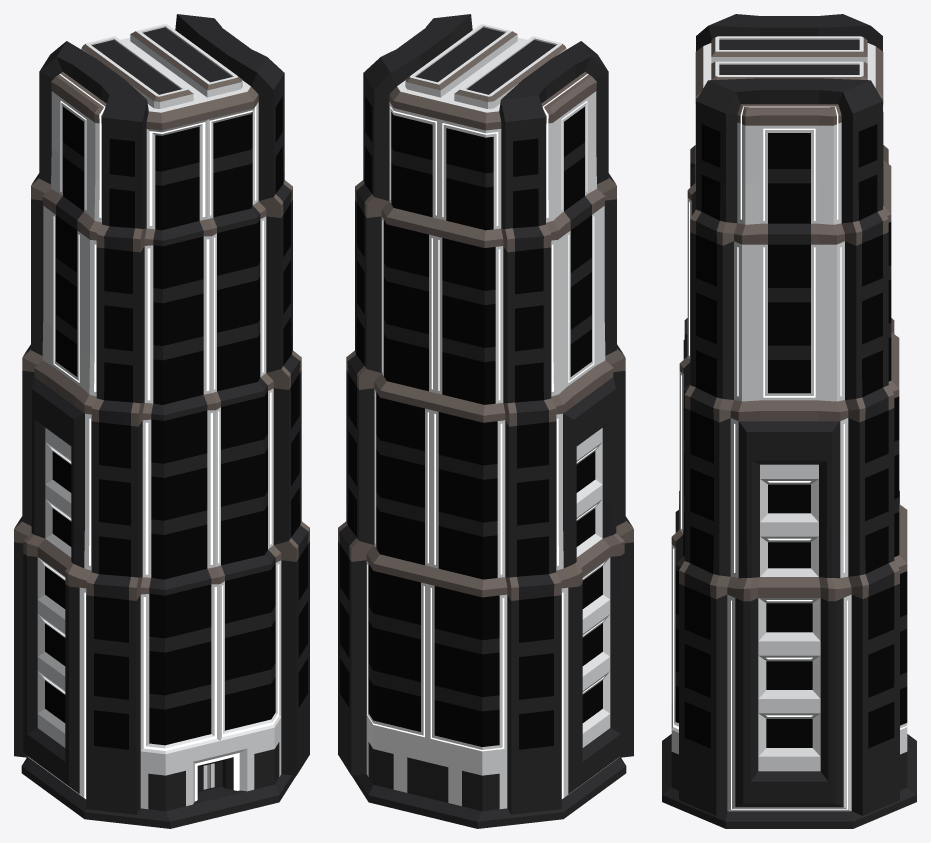
File: FUT0210022.fbx
3 views of the same model, side by side, from view 1: azimuth 30°, elevation 25°; view 2: azimuth 150°, elevation 25°; view 3: azimuth 270°, elevation 25° (orthographic).
Visible parts, largest first — view 1: smFUT0210022; view 2: smFUT0210022; view 3: smFUT0210022.
Boxes of the visible parts, bbox=[...] form: smFUT0210022: bbox=[14, 14, 309, 828]; smFUT0210022: bbox=[338, 14, 633, 828]; smFUT0210022: bbox=[662, 14, 916, 828].
Size of the model in its own units: 1346 by 3941 by 1261.
Materials: 1 (1 with a texture image).
